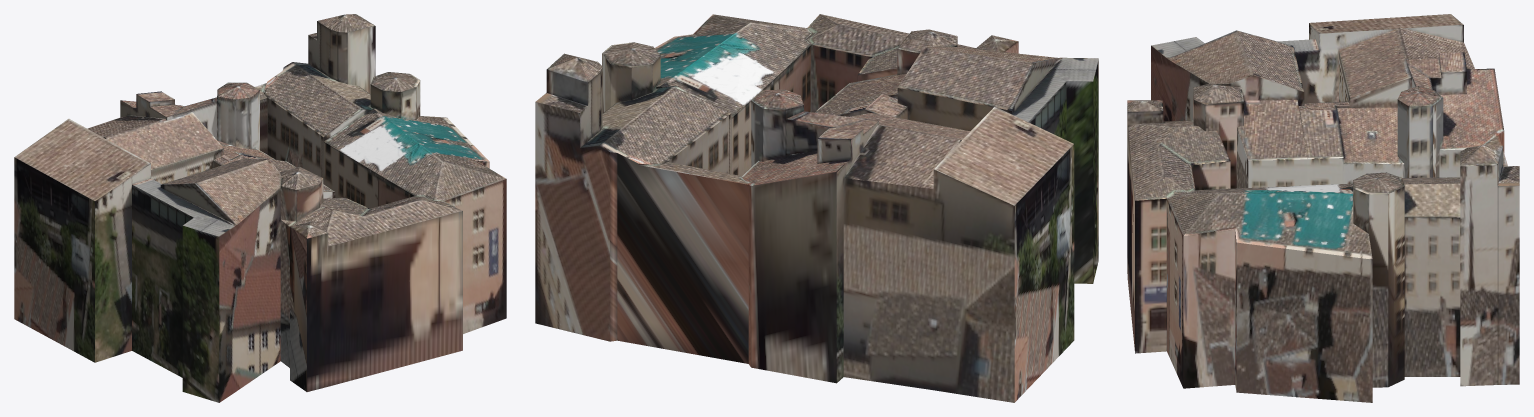
3 views of the same model, side by side, from view 1: azimuth 30°, elevation 25°; view 2: azimuth 150°, elevation 25°; view 3: azimuth 270°, elevation 25° (orthographic). The views are drawn at different scales.
Parts seen in each view (by area): view 1: Z_UP; view 2: Z_UP; view 3: Z_UP.
Part boxes in pixels (x1,y1,x2,y2): Z_UP: (14, 14, 506, 402); Z_UP: (535, 14, 1098, 402); Z_UP: (1127, 14, 1519, 402).
Bounding box in the file's own units: 52.1 × 26.35 × 40.81.
Materials: 2 (1 with a texture image).
